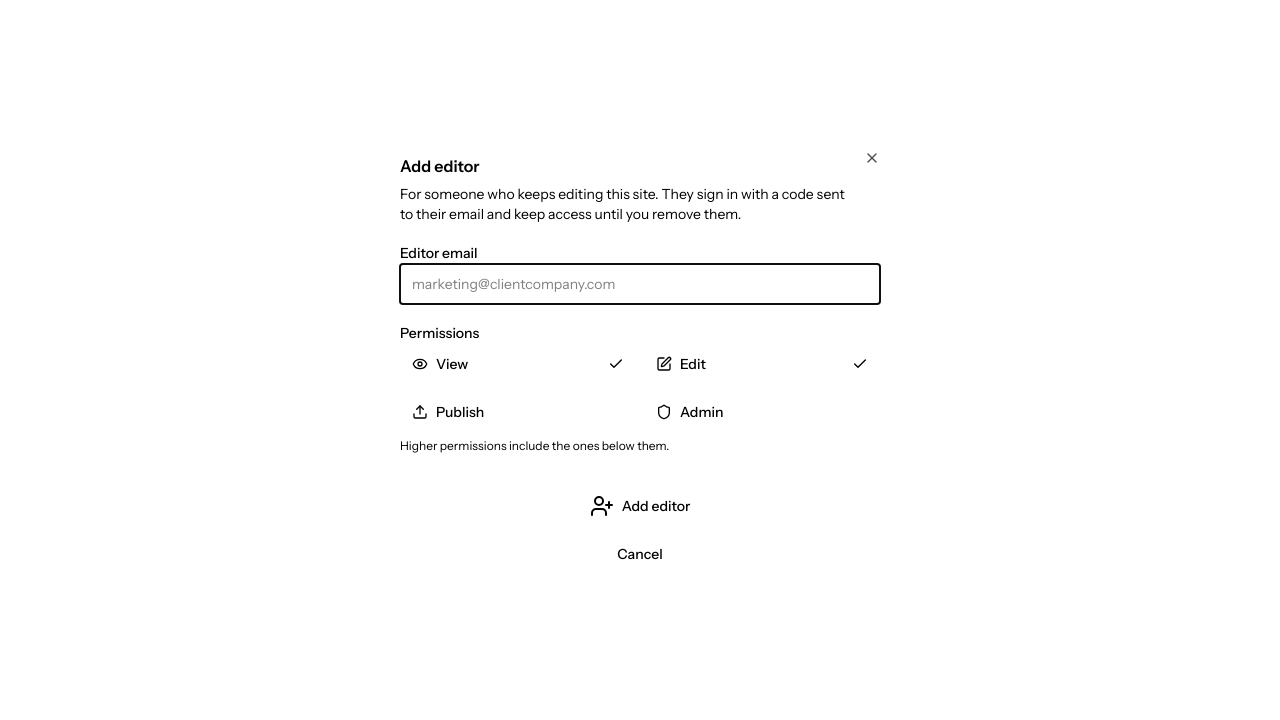
Scenario: AddEditorDialog › tells a plan with no seats at all apart from a plan that has run out
Type "grace@clientcompany.com" into the field labelled "Editor email" at {"x": 640, "y": 284}, box x1=400 y1=264 x2=880 y2=304
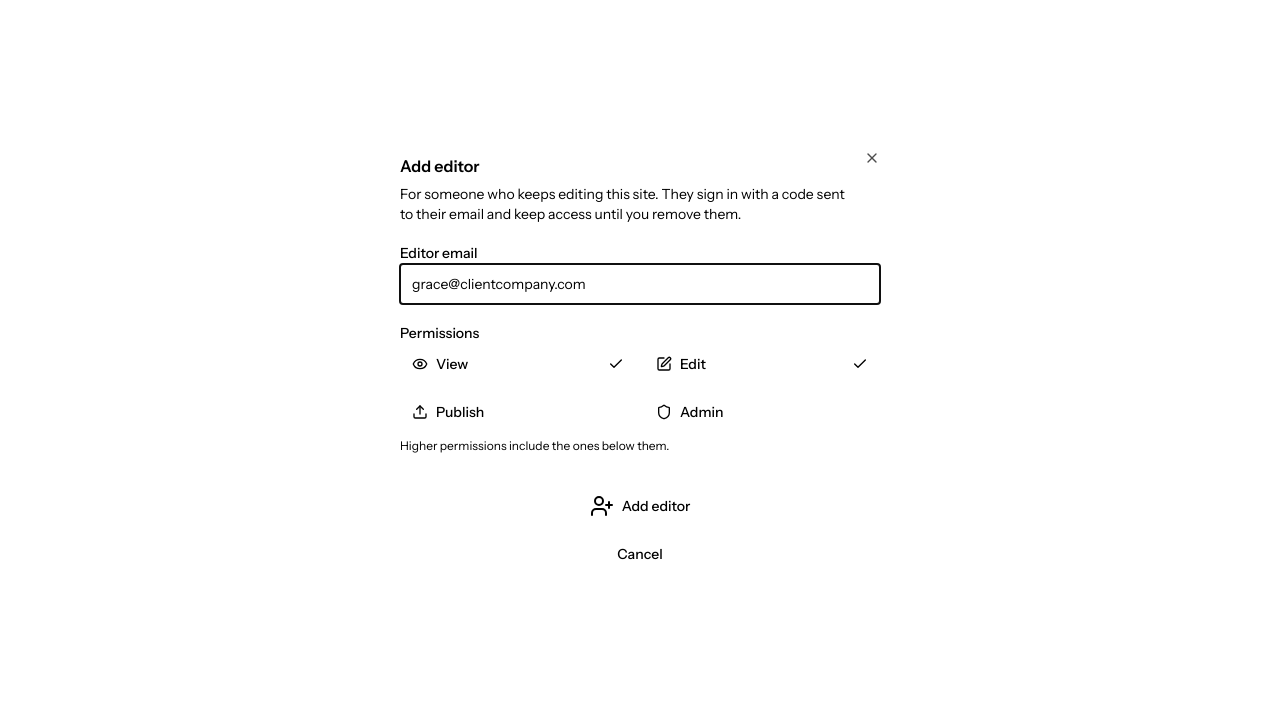
Click the button "Add editor" at {"x": 640, "y": 506}, box x1=400 y1=486 x2=880 y2=526
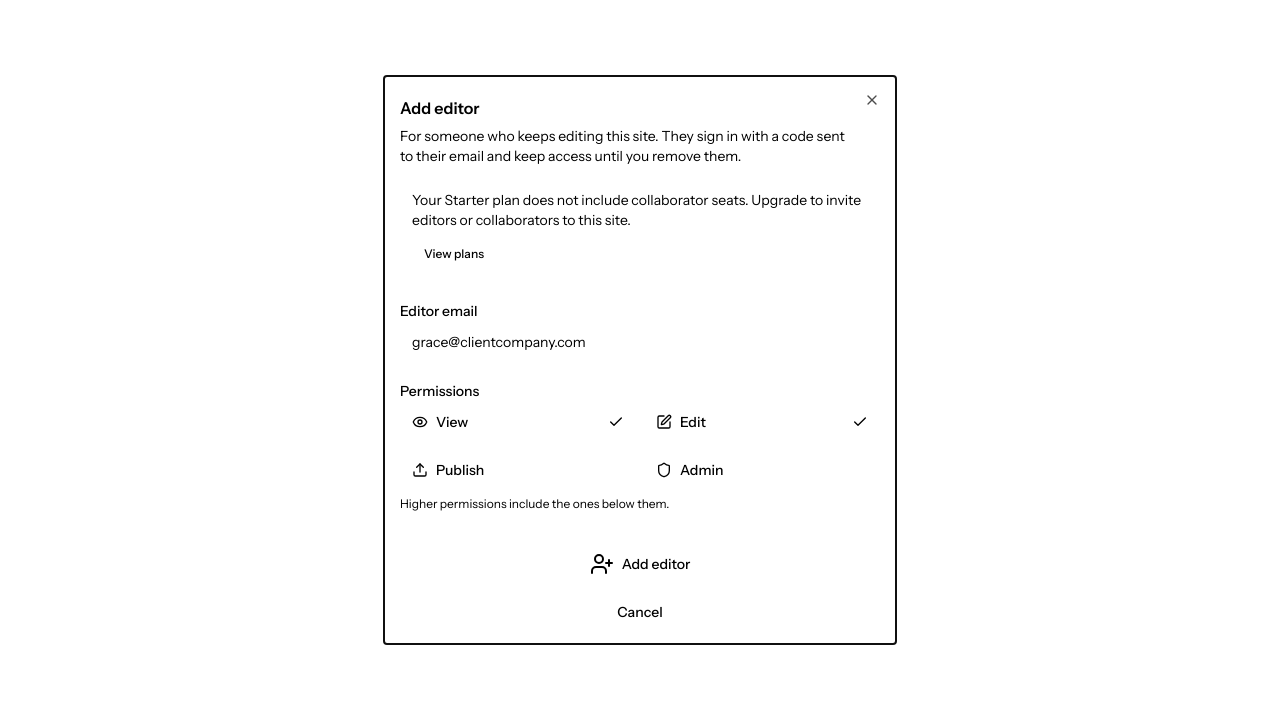
Check: the message does not show "used all", box x1=400 y1=182 x2=880 y2=278
Check: the message shows "Your Starter plan does not include collaborator seats", box x1=412 y1=191 x2=861 y2=229
Check: the link "View plans" is shown, box x1=424 y1=246 x2=484 y2=261
